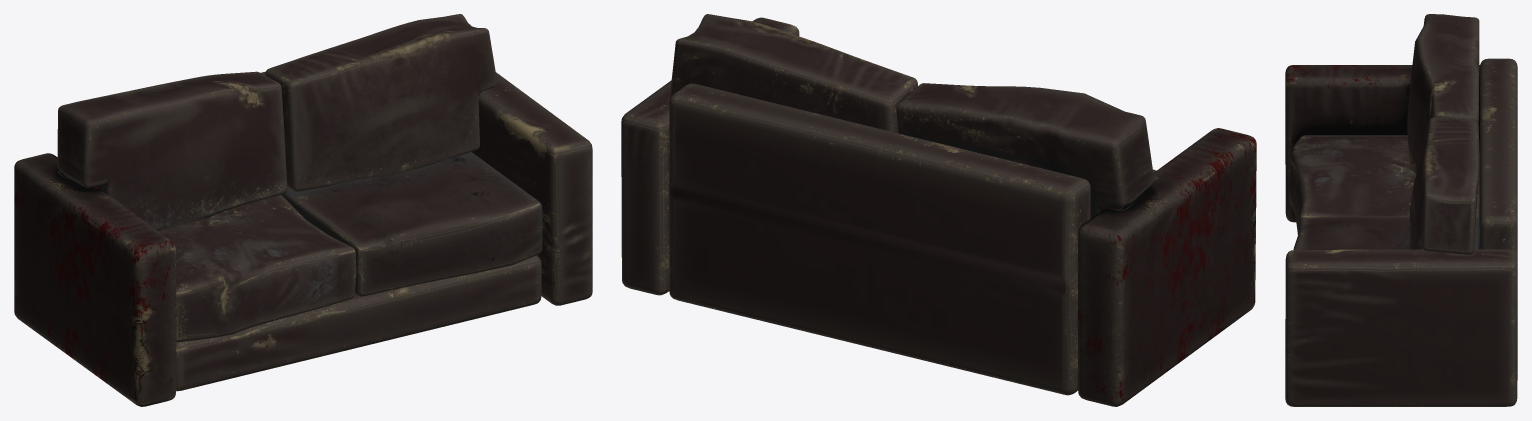
The model's file is bloodySoofa.glb.
The picture shows the model from 3 angles, left to right: view 1: azimuth 30°, elevation 25°; view 2: azimuth 150°, elevation 25°; view 3: azimuth 270°, elevation 25°; orthographic projection. The views are drawn at different scales.
Visible parts, largest first — view 1: Box001_5_0, Box001_2_0, Box001_1_0, Box001_3_0, Box001_4_0, Box001_7_0, Box001_6_0; view 2: Box001_7_0, Box001_5_0, Box001_1_0, Box001_2_0, Box001_6_0; view 3: Box001_6_0, Box001_4_0, Box001_5_0, Box001_2_0, Box001_1_0, Box001_7_0, Box001_3_0.
Boxes of the visible parts, bbox=[...] form: Box001_5_0: bbox=[14, 153, 176, 406]; Box001_2_0: bbox=[265, 14, 497, 191]; Box001_1_0: bbox=[57, 71, 287, 230]; Box001_3_0: bbox=[281, 152, 542, 296]; Box001_4_0: bbox=[158, 195, 356, 342]; Box001_7_0: bbox=[57, 71, 541, 391]; Box001_6_0: bbox=[471, 72, 592, 305]; Box001_7_0: bbox=[668, 83, 1090, 395]; Box001_5_0: bbox=[1078, 128, 1256, 406]; Box001_1_0: bbox=[896, 83, 1154, 218]; Box001_2_0: bbox=[670, 14, 917, 132]; Box001_6_0: bbox=[621, 17, 799, 295]; Box001_6_0: bbox=[1285, 249, 1517, 406]; Box001_4_0: bbox=[1288, 135, 1479, 242]; Box001_5_0: bbox=[1285, 65, 1480, 222]; Box001_2_0: bbox=[1409, 117, 1479, 254]; Box001_1_0: bbox=[1407, 14, 1479, 175]; Box001_7_0: bbox=[1479, 58, 1517, 379]; Box001_3_0: bbox=[1293, 216, 1479, 249].
Bounding box in the file's own units: 2.77 × 1.33 × 1.34.
Materials: 7 (7 with a texture image).
